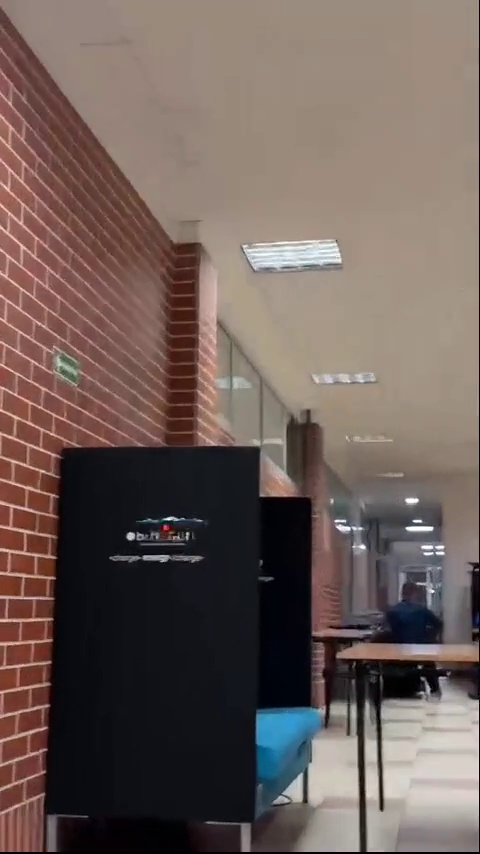drone: (137, 512, 208, 530)
no vest: (384, 583, 443, 644)
